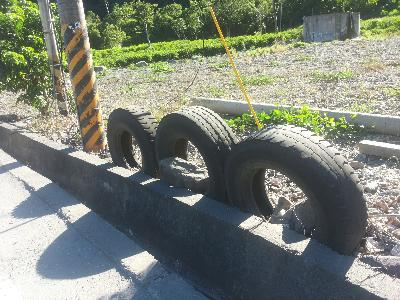tire: (227, 124, 369, 258), (154, 105, 238, 202), (107, 105, 157, 176)
